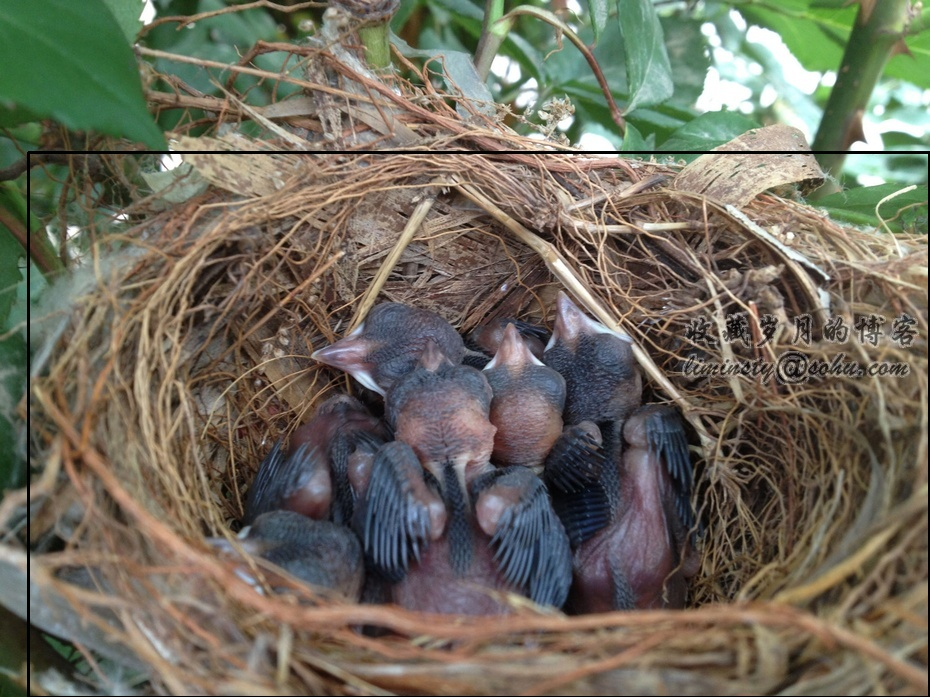bird-nest: (28, 152, 929, 697)
